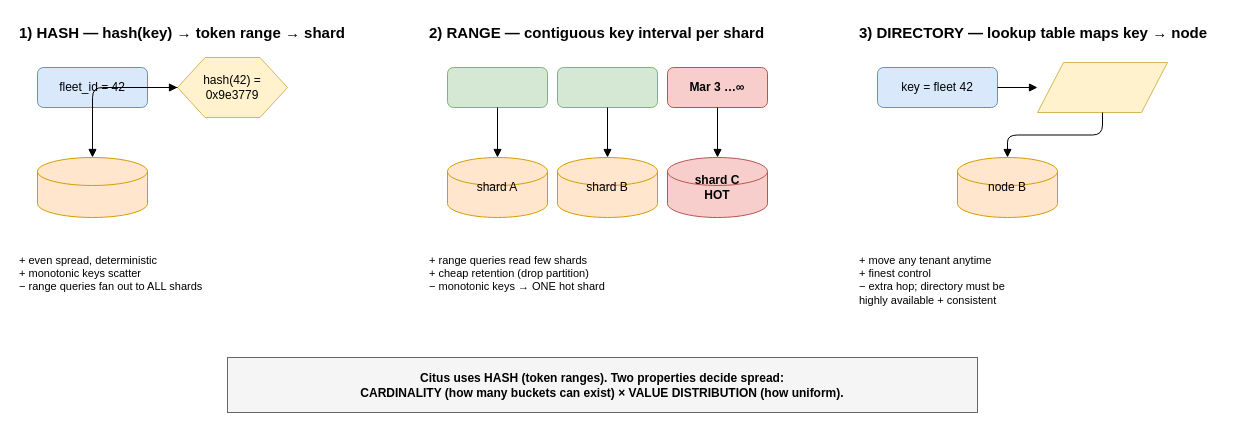
This 1234x430 diagram has some shape labels left out. Each missing label, with the centre of its shape:
DIRECTORY 42 → node B: (1102,87)
Mar 1: (497,87)
Mar 2: (607,87)
shard 5 (token range): (92,187)
